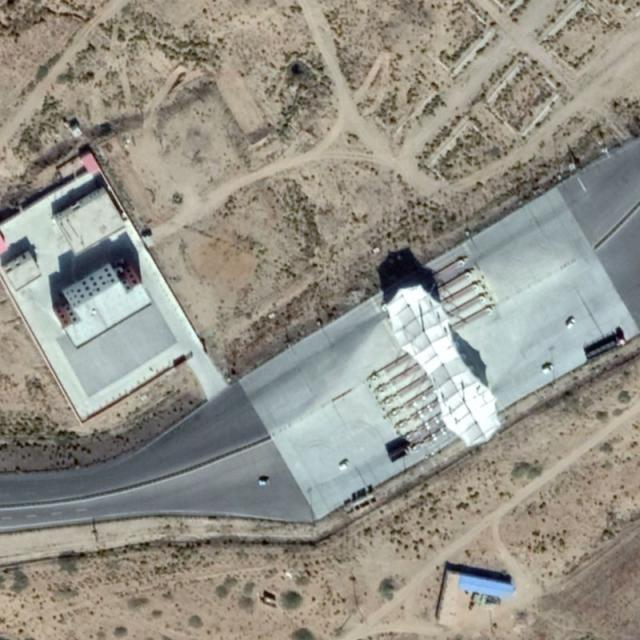vehicle: (586, 338, 626, 360), (389, 446, 411, 463), (338, 458, 350, 470), (542, 364, 554, 374), (566, 318, 575, 330), (258, 477, 270, 486)
